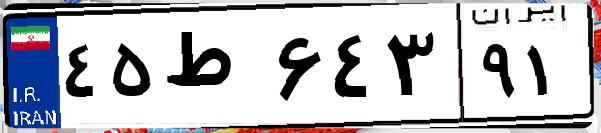1: (525, 38, 570, 115)
3: (385, 28, 445, 110)
4: (330, 28, 385, 110), (57, 26, 110, 100)
5: (110, 28, 158, 98)
6: (270, 28, 330, 110)
9: (475, 38, 525, 113)
ط: (158, 20, 270, 120)
